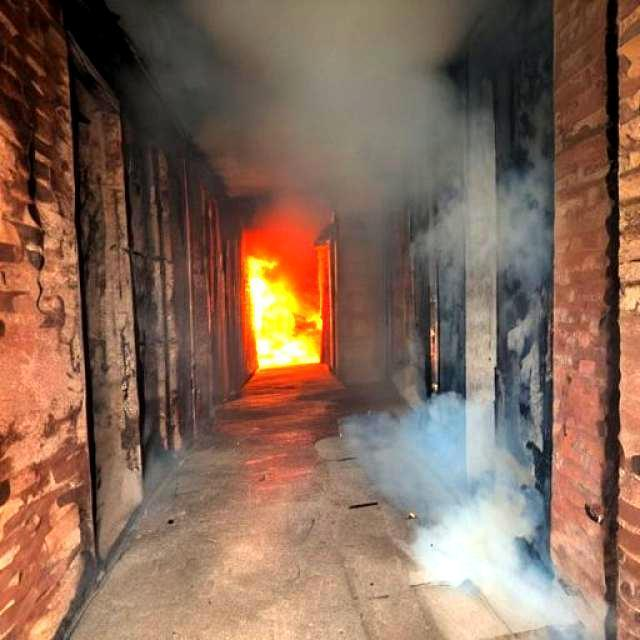Fire: (236, 244, 329, 370)
Smoke: (101, 0, 478, 183), (338, 388, 564, 626), (407, 152, 560, 296)
